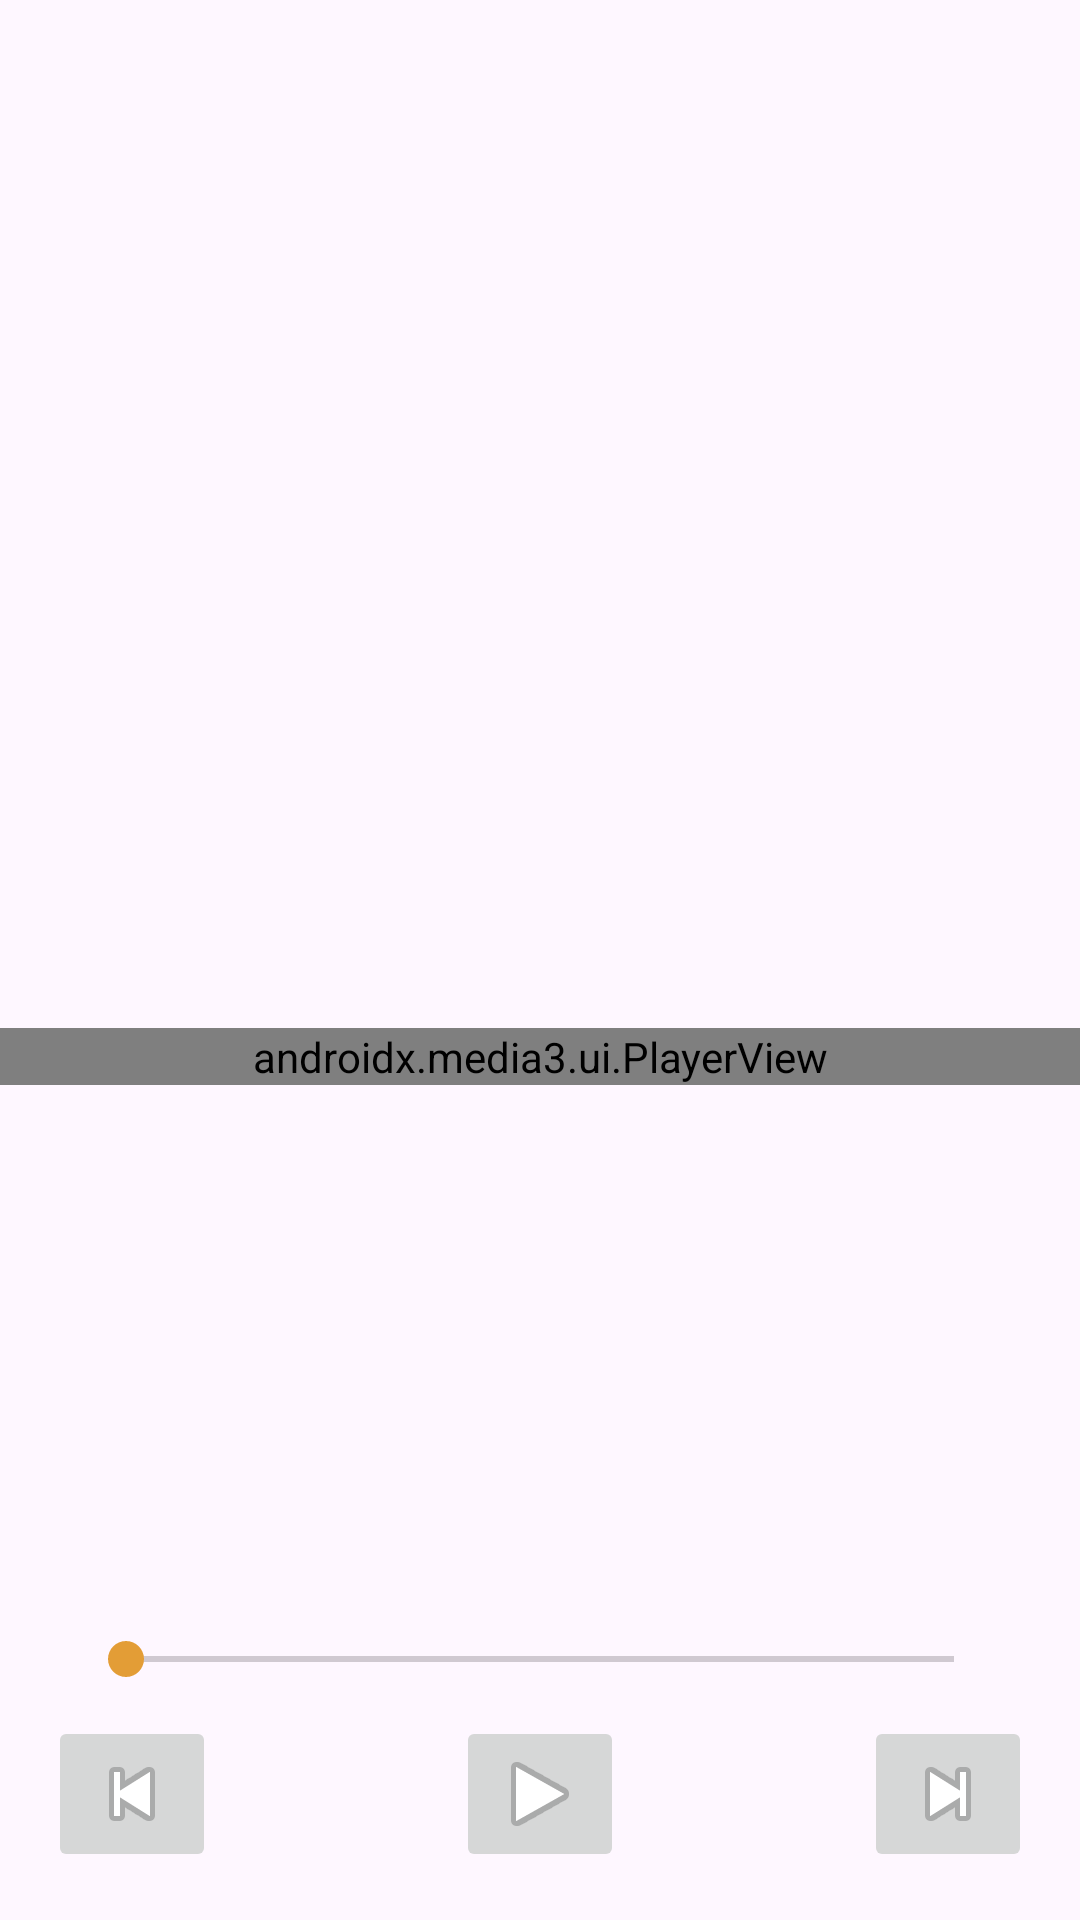

Icon bounding boxes for this 1080 x 1920 phone screenshot, format (x1, y1, x2, y2):
next: (876, 1734, 1020, 1854)
play: (468, 1734, 612, 1854)
previous: (60, 1734, 204, 1854)
